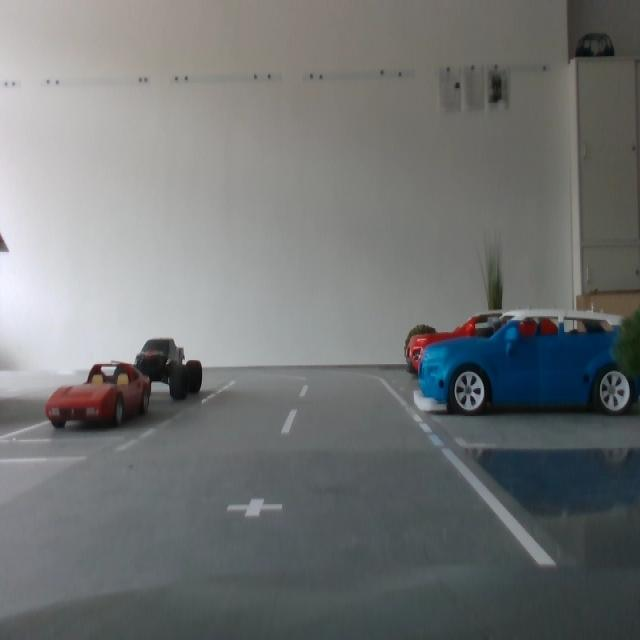car: (418, 309, 639, 417), (407, 313, 618, 401), (46, 361, 152, 429), (133, 337, 205, 404)
